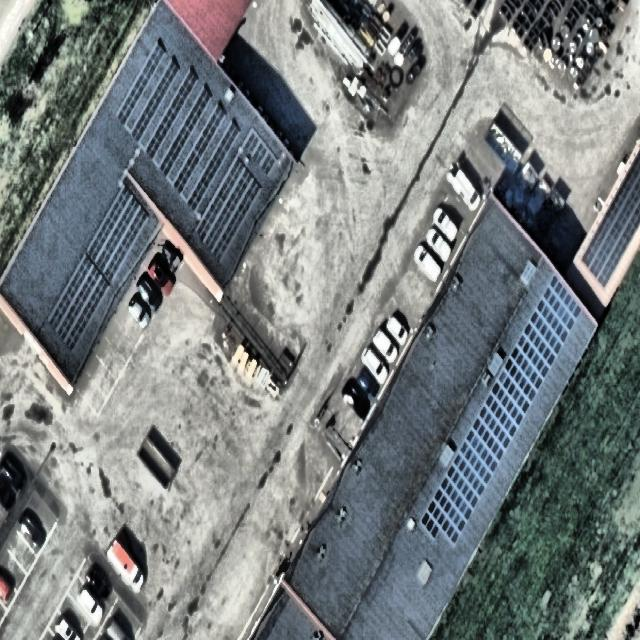roof_pv: (581, 150, 640, 289), (172, 102, 239, 219), (194, 156, 265, 265), (147, 64, 211, 180), (512, 278, 582, 374), (116, 38, 178, 144), (44, 256, 109, 353), (88, 186, 148, 284), (422, 463, 486, 550), (457, 395, 516, 481), (490, 356, 545, 415), (240, 125, 279, 178)
